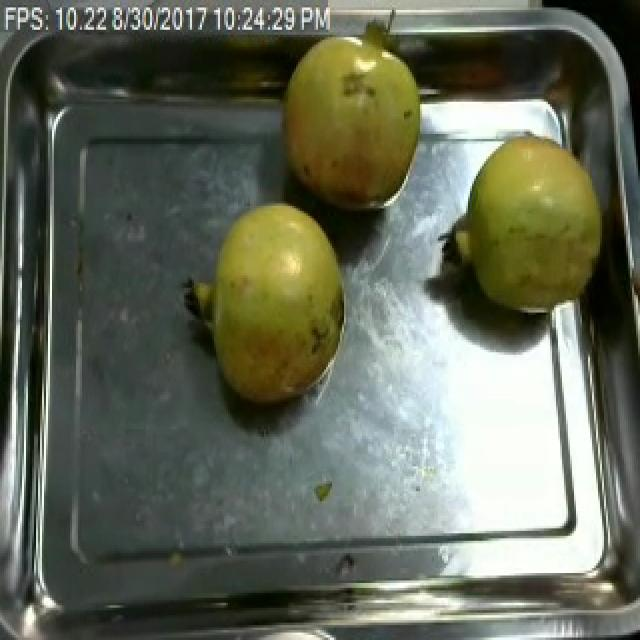fruit: (182, 193, 356, 417), (440, 121, 616, 332), (272, 25, 434, 223)
